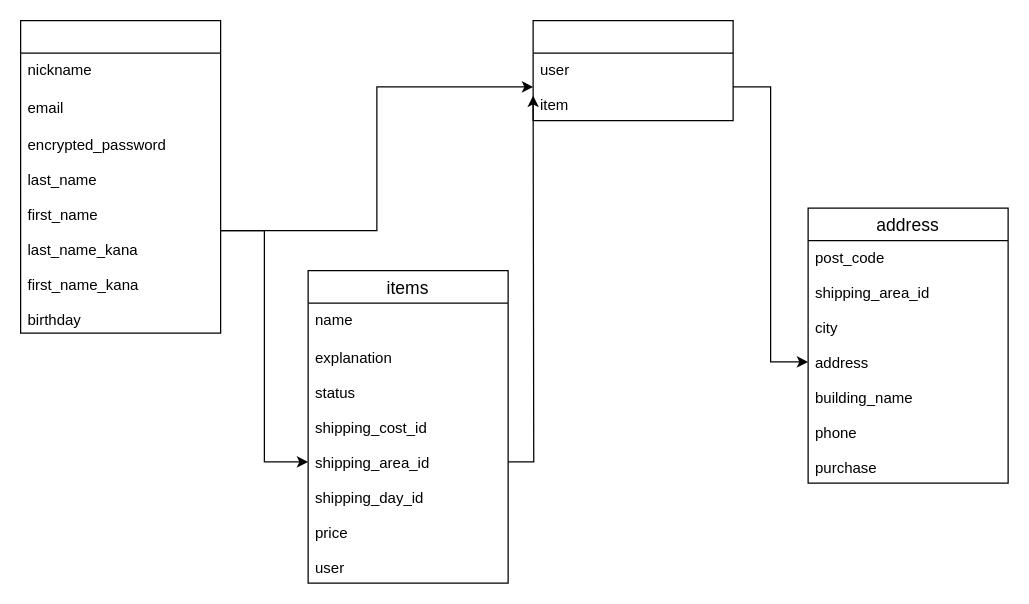
Some shapes in this 1029 by 604 pixel diagram are drawn without their labels. Here are the shapes that lost their labels. From the top down, the box of each, then its label:
(532, 19, 733, 121): purchases
(19, 19, 221, 333): users
